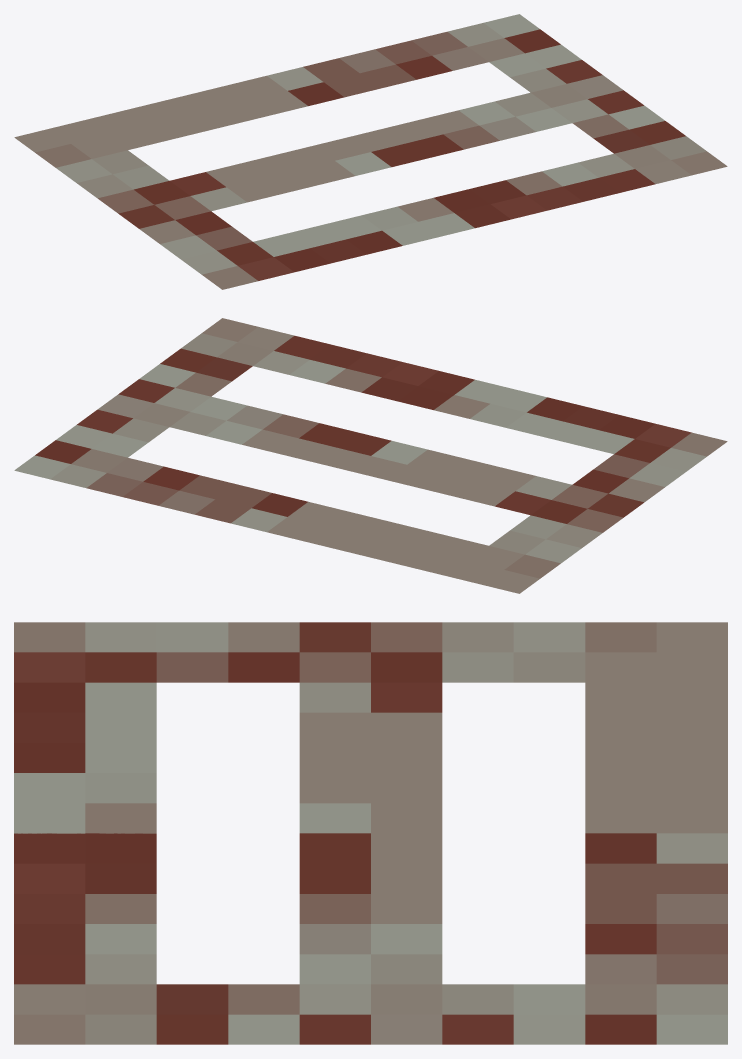
Rendered from stainless_steel_floor.obj.
3 views of the same model, one above another, from view 1: azimuth 30°, elevation 25°; view 2: azimuth 150°, elevation 25°; view 3: azimuth 270°, elevation 25° (orthographic). The views are drawn at different scales.
Visible parts, largest first — view 1: metal_floor_Plane.007; view 2: metal_floor_Plane.007; view 3: metal_floor_Plane.007.
Part boxes in pixels (x1=…): metal_floor_Plane.007: x1=14, y1=14, x2=727, y2=289; metal_floor_Plane.007: x1=14, y1=318, x2=727, y2=593; metal_floor_Plane.007: x1=14, y1=622, x2=727, y2=1044.
Size of the model in its own units: 14 by 0 by 10.
